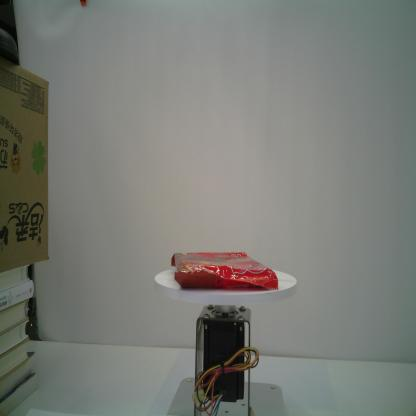Dessert: (171, 251, 278, 290)
